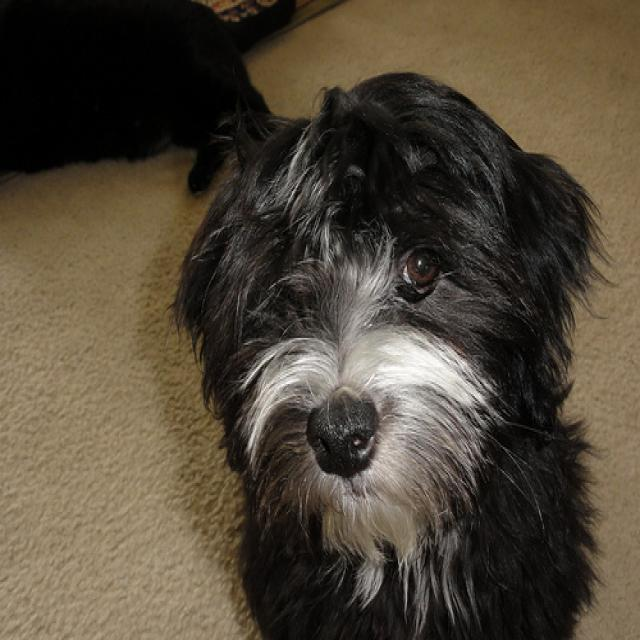dog-havanese: (165, 51, 623, 637)
